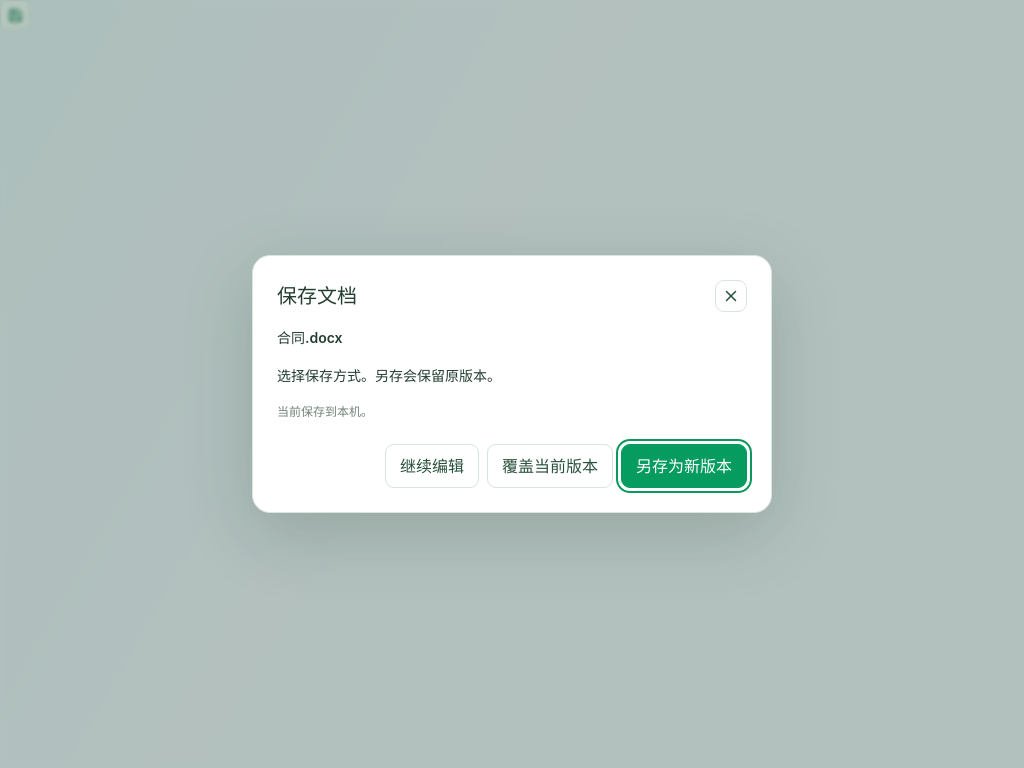
Test: OnlyOfficeSaveControls › keeps autosave as draft and opens a decision only after a native user save
The image size is (1024, 768).
Expected: the dialog is shown, [252,255,772,513]
What coordinates should you click on to do the following:
click the button "继续编辑"
I would click on:
 (432, 466)
Its box is [385,444,479,488].
Wait 1500 ms
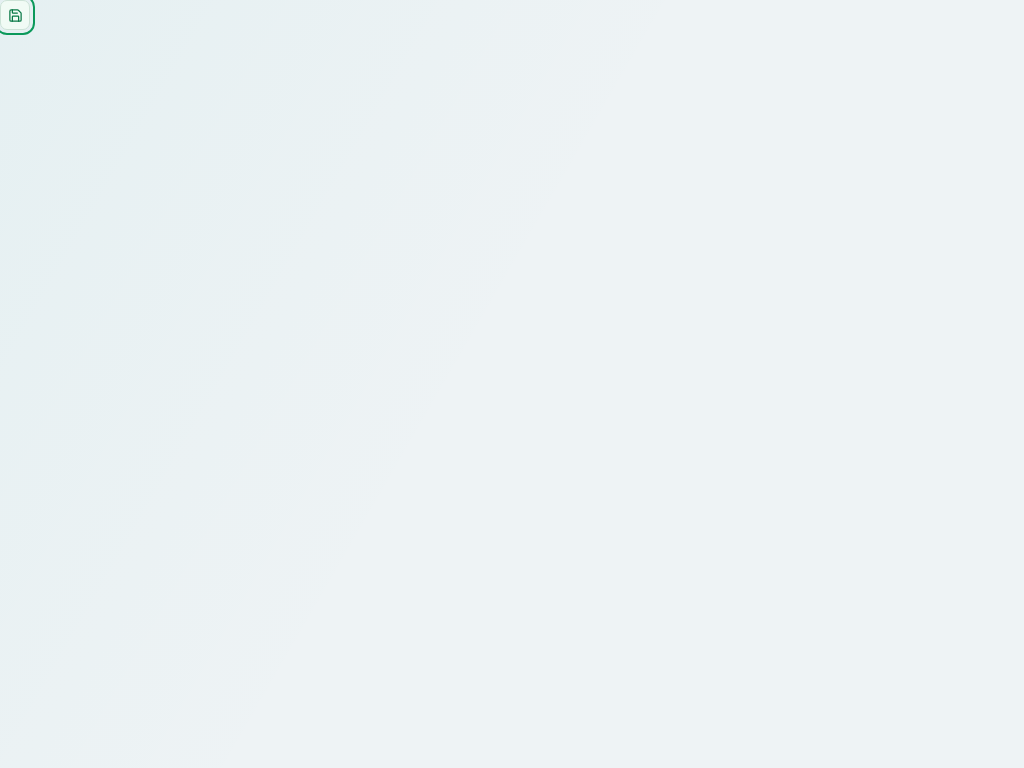
Now the dialog is gone
